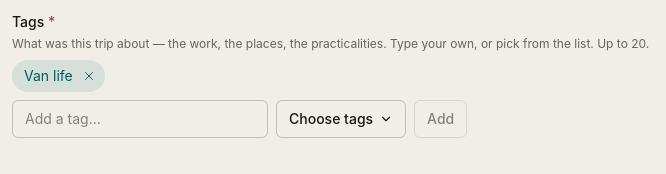
Test: TagEditor › refuses a duplicate of an already-selected tag, whatever its casing
Type "VAN LIFE" into the field labelled "Add a tag…" at {"x": 140, "y": 119}, box left=12, top=100, right=268, bottom=138
Then press Enter
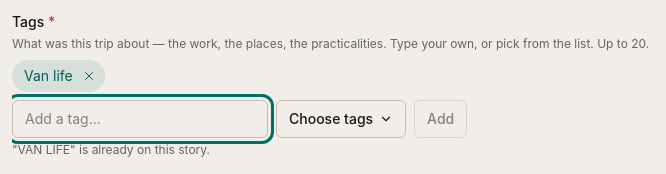
Now the message shows "already on", box left=12, top=142, right=210, bottom=157
